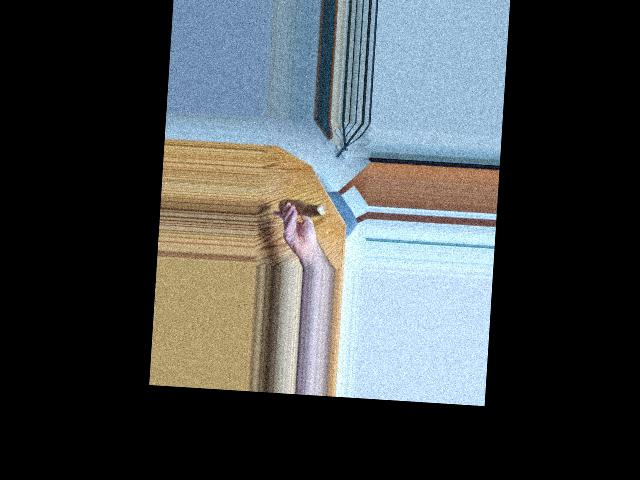sweet_potato: (281, 196, 322, 220)
